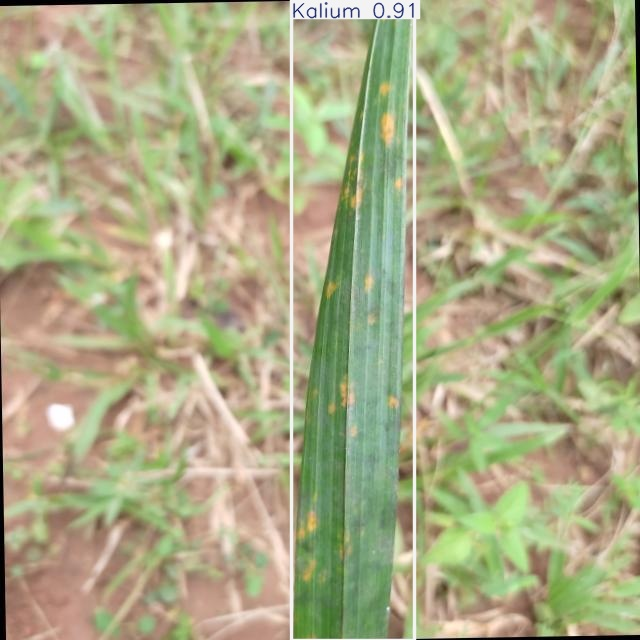Kalium: (292, 0, 414, 640)
